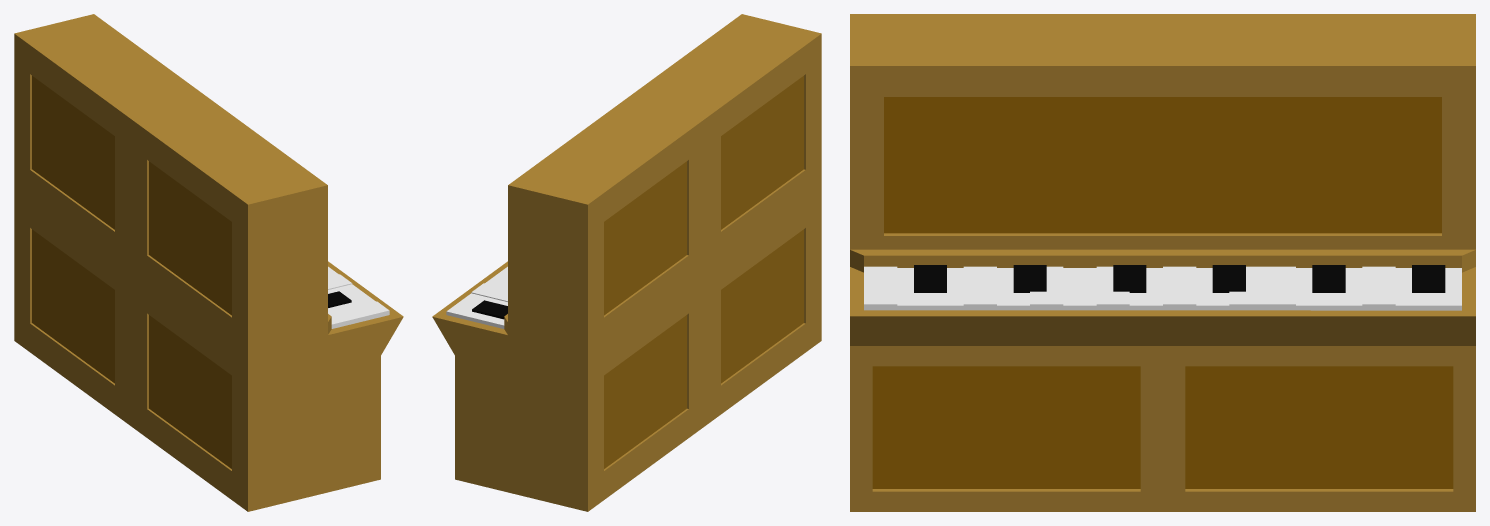
The model's file is piano.fbx.
3 views of the same model, side by side, from view 1: azimuth 30°, elevation 25°; view 2: azimuth 150°, elevation 25°; view 3: azimuth 270°, elevation 25° (orthographic). The views are drawn at different scales.
Parts seen in each view (by area): view 1: Piano; view 2: Piano; view 3: Piano.
Boxes of the visible parts, <box> form: Piano: <box>14,14,403,511</box>; Piano: <box>432,14,821,511</box>; Piano: <box>850,14,1475,511</box>.
Bounding box in the file's own units: 206 × 388 × 536.
